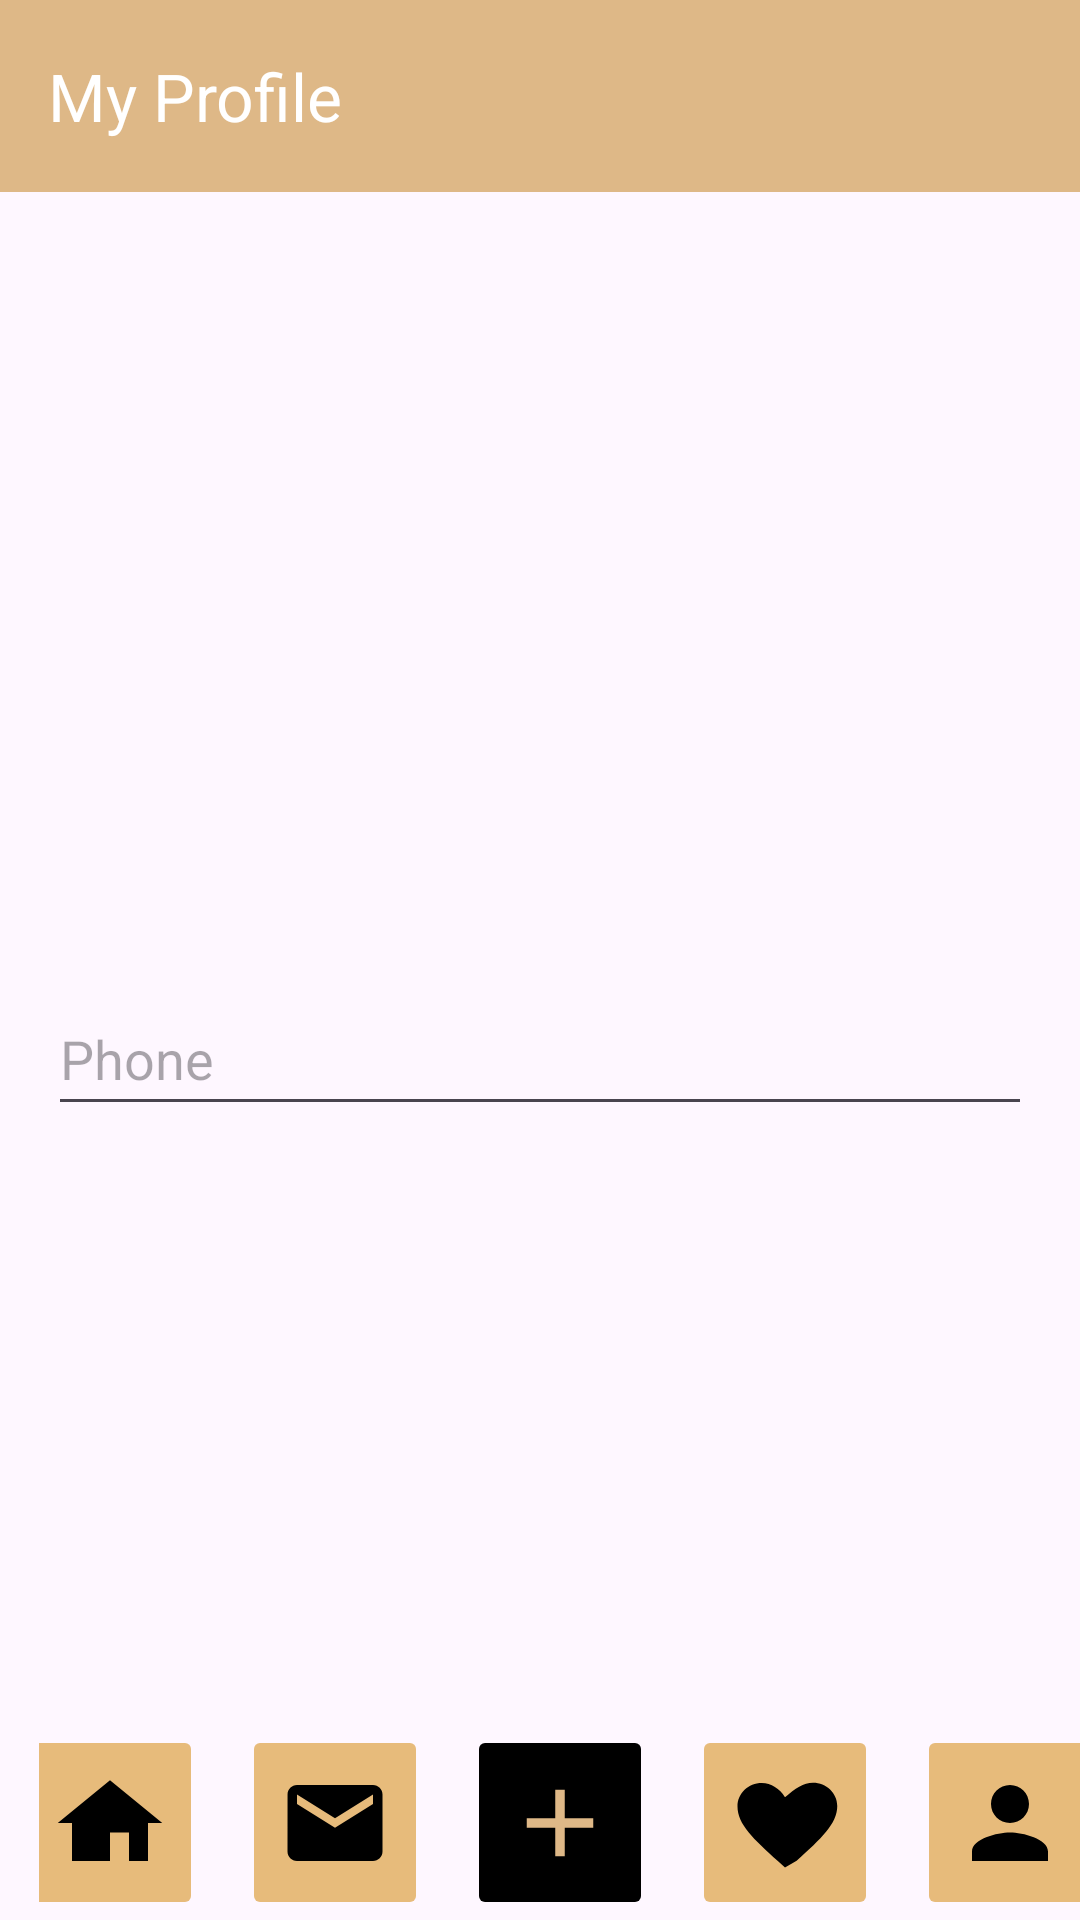

Icon click points for this 1080 × 1920 phone screenshot, format (x=x, y=y):
chat: (x=335, y=1822)
home: (x=115, y=1822)
sell: (x=560, y=1822)
